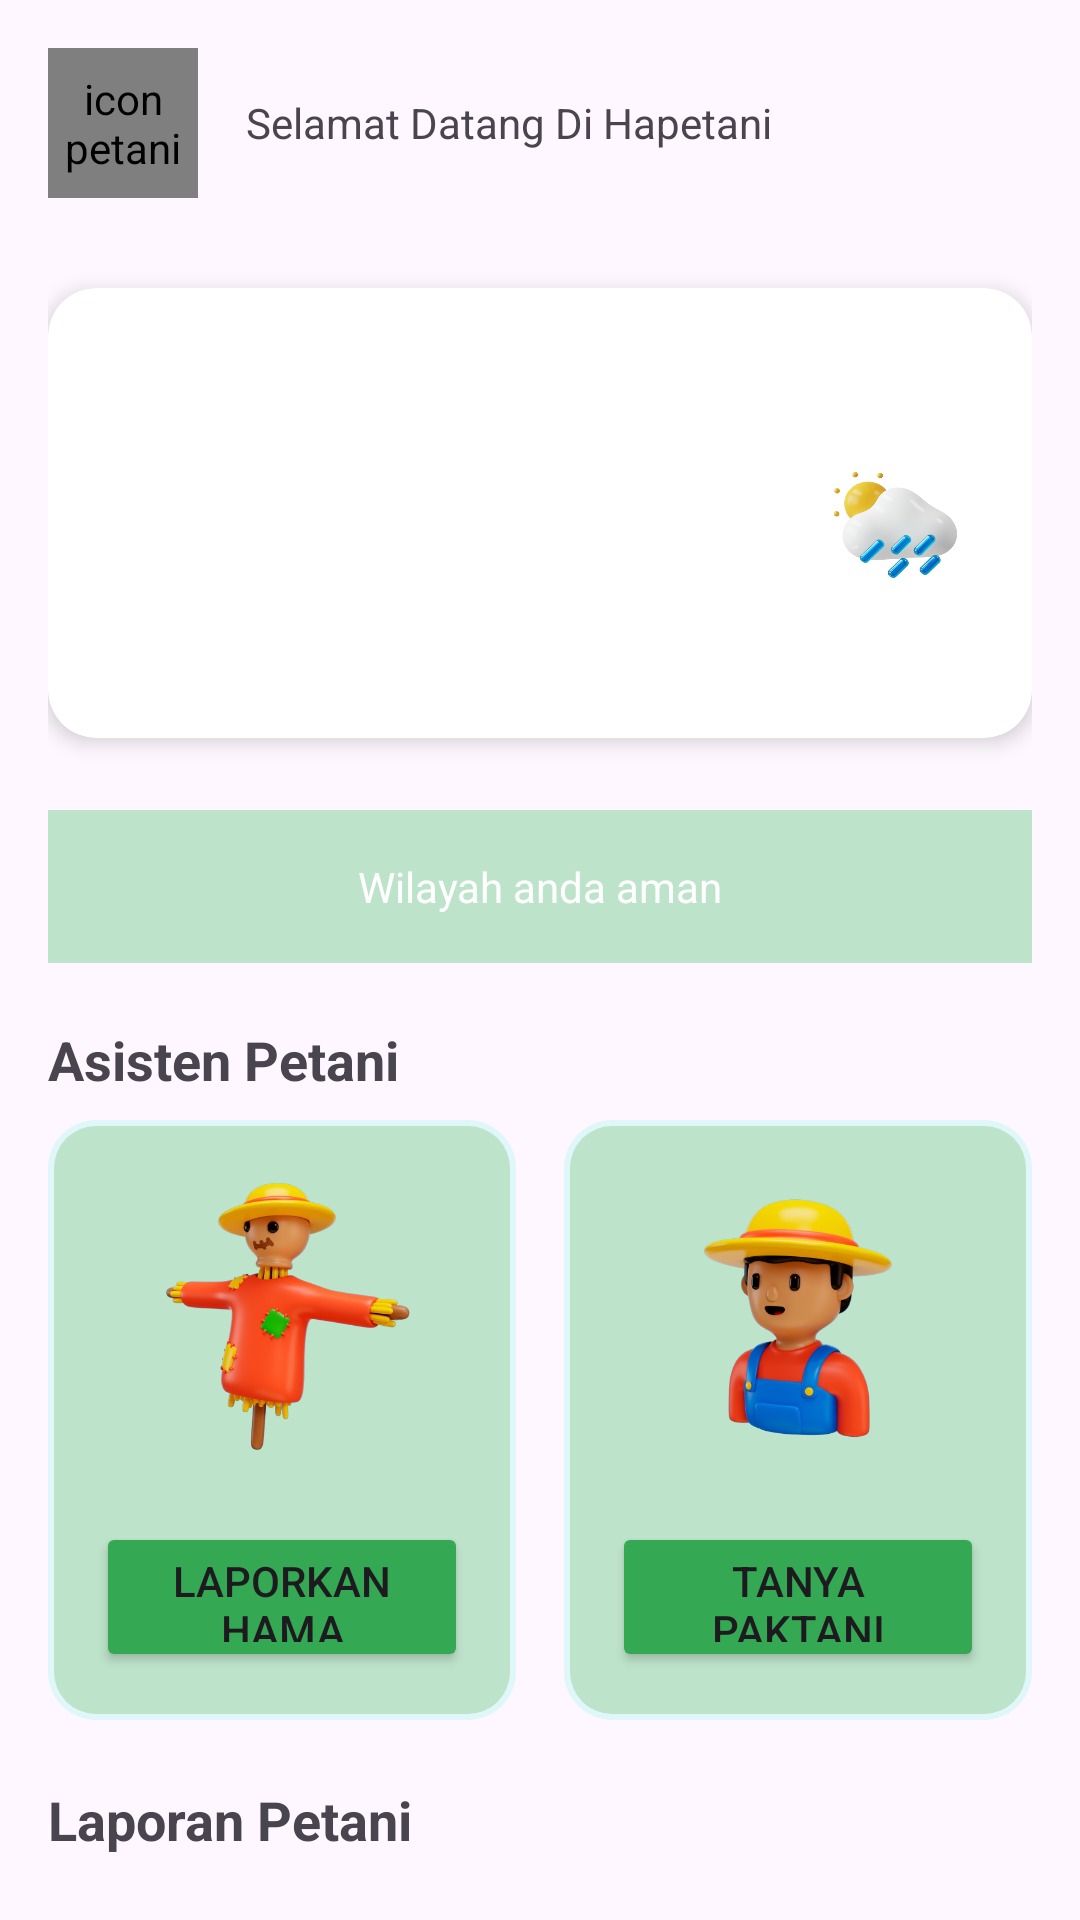

Where to tap for icons on this 1080x1920 app screen, as [x,y]:
Icon Awan: [895,525]
